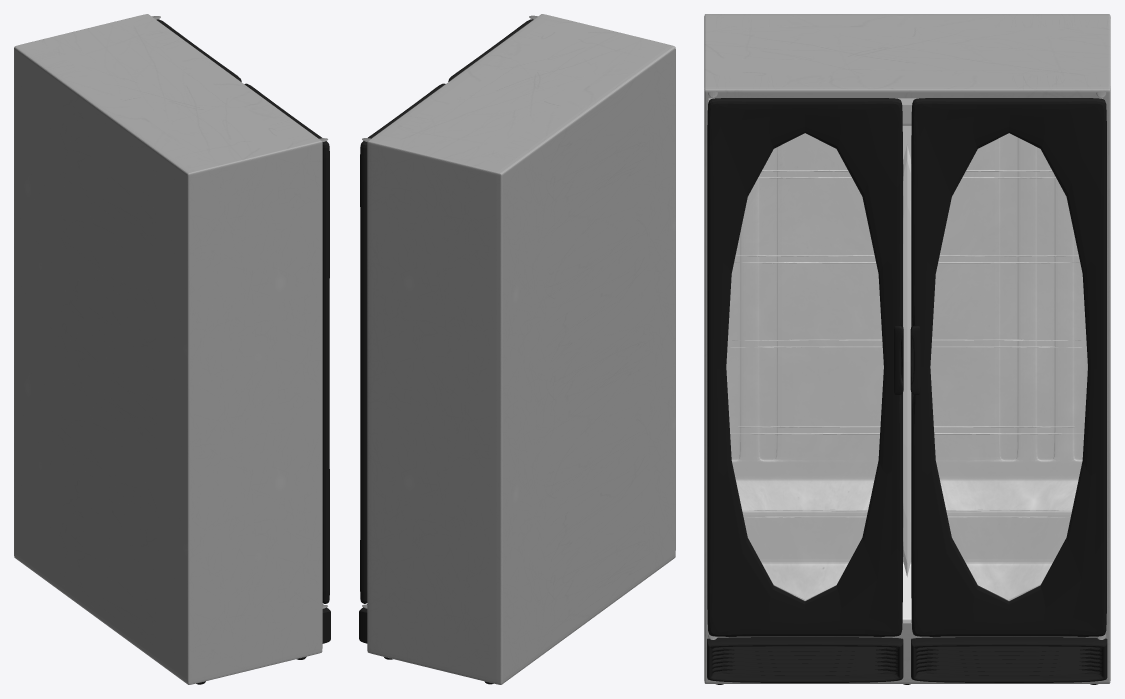
Rendered from Shop Fridge.glb.
3 renders of one model, left to right at view 1: azimuth 30°, elevation 25°; view 2: azimuth 150°, elevation 25°; view 3: azimuth 270°, elevation 25°, orthographic. The views are drawn at different scales.
Parts seen in each view (by area): view 1: heladera.006; view 2: heladera.006; view 3: heladera.006.
Part boxes in pixels (<box>): heladera.006: <box>14,14,330,684</box>; heladera.006: <box>359,14,675,684</box>; heladera.006: <box>704,14,1110,684</box>.
Bounding box in the file's own units: 0.6387 × 2.17 × 1.32.
8 materials, 3 textured.
